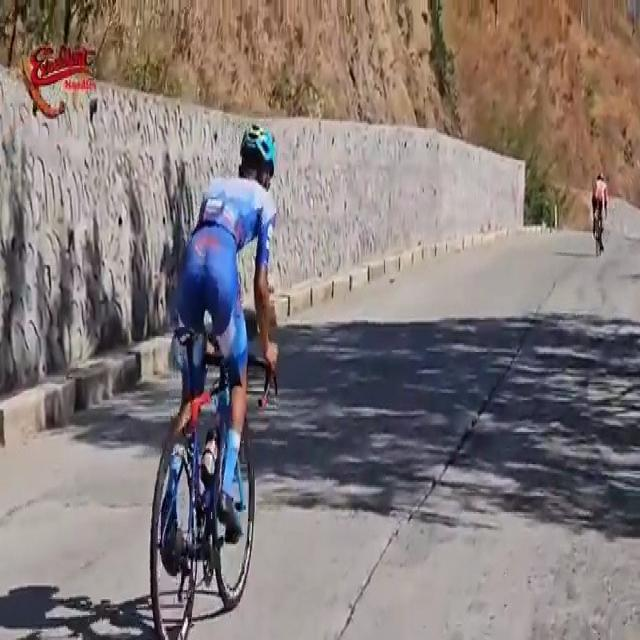bike: (145, 117, 278, 640), (590, 170, 610, 260)
